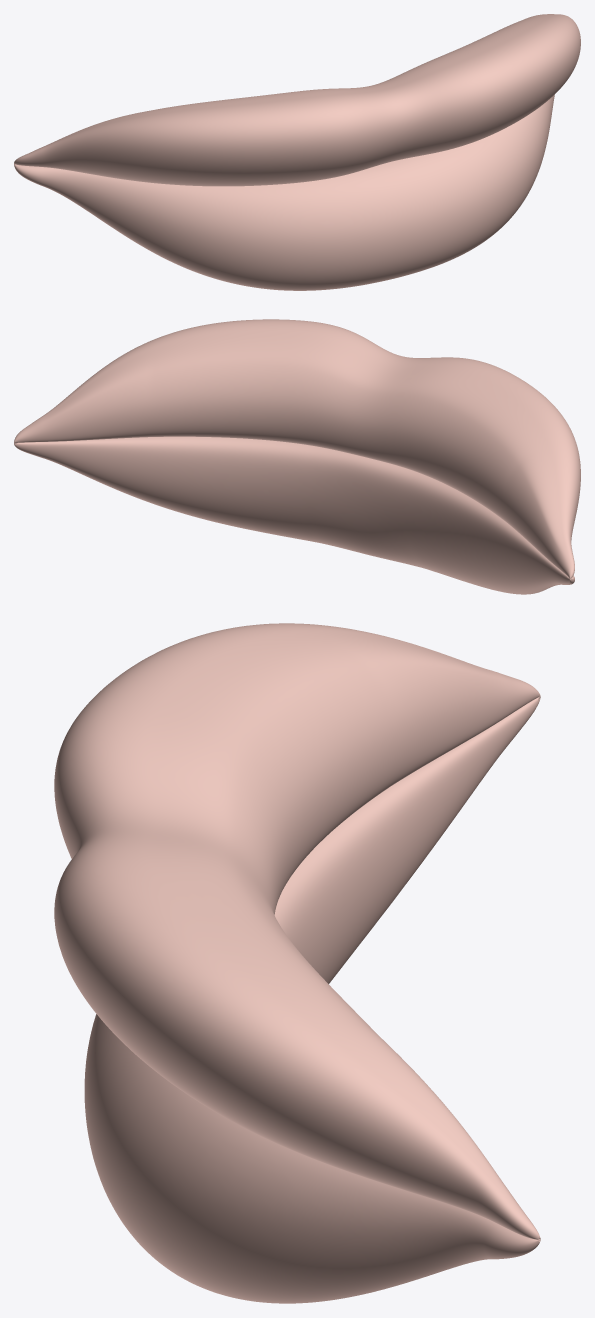
Rendered from lips.glb.
The picture shows the model from 3 angles, top to bottom: view 1: azimuth 30°, elevation 25°; view 2: azimuth 150°, elevation 25°; view 3: azimuth 270°, elevation 25°; orthographic projection. The views are drawn at different scales.
Visible parts, largest first — view 1: lower-lip, upper-lip; view 2: upper-lip, lower-lip; view 3: upper-lip, lower-lip.
Boxes of the visible parts, box(x1,y1,x2,y2) form: lower-lip: box(14, 94, 554, 290); upper-lip: box(14, 14, 580, 186); upper-lip: box(14, 319, 580, 578); lower-lip: box(14, 436, 574, 594); upper-lip: box(54, 623, 540, 1239); lower-lip: box(84, 697, 540, 1303).
Bounding box in the file's own units: 5.16 × 1.77 × 1.95.
